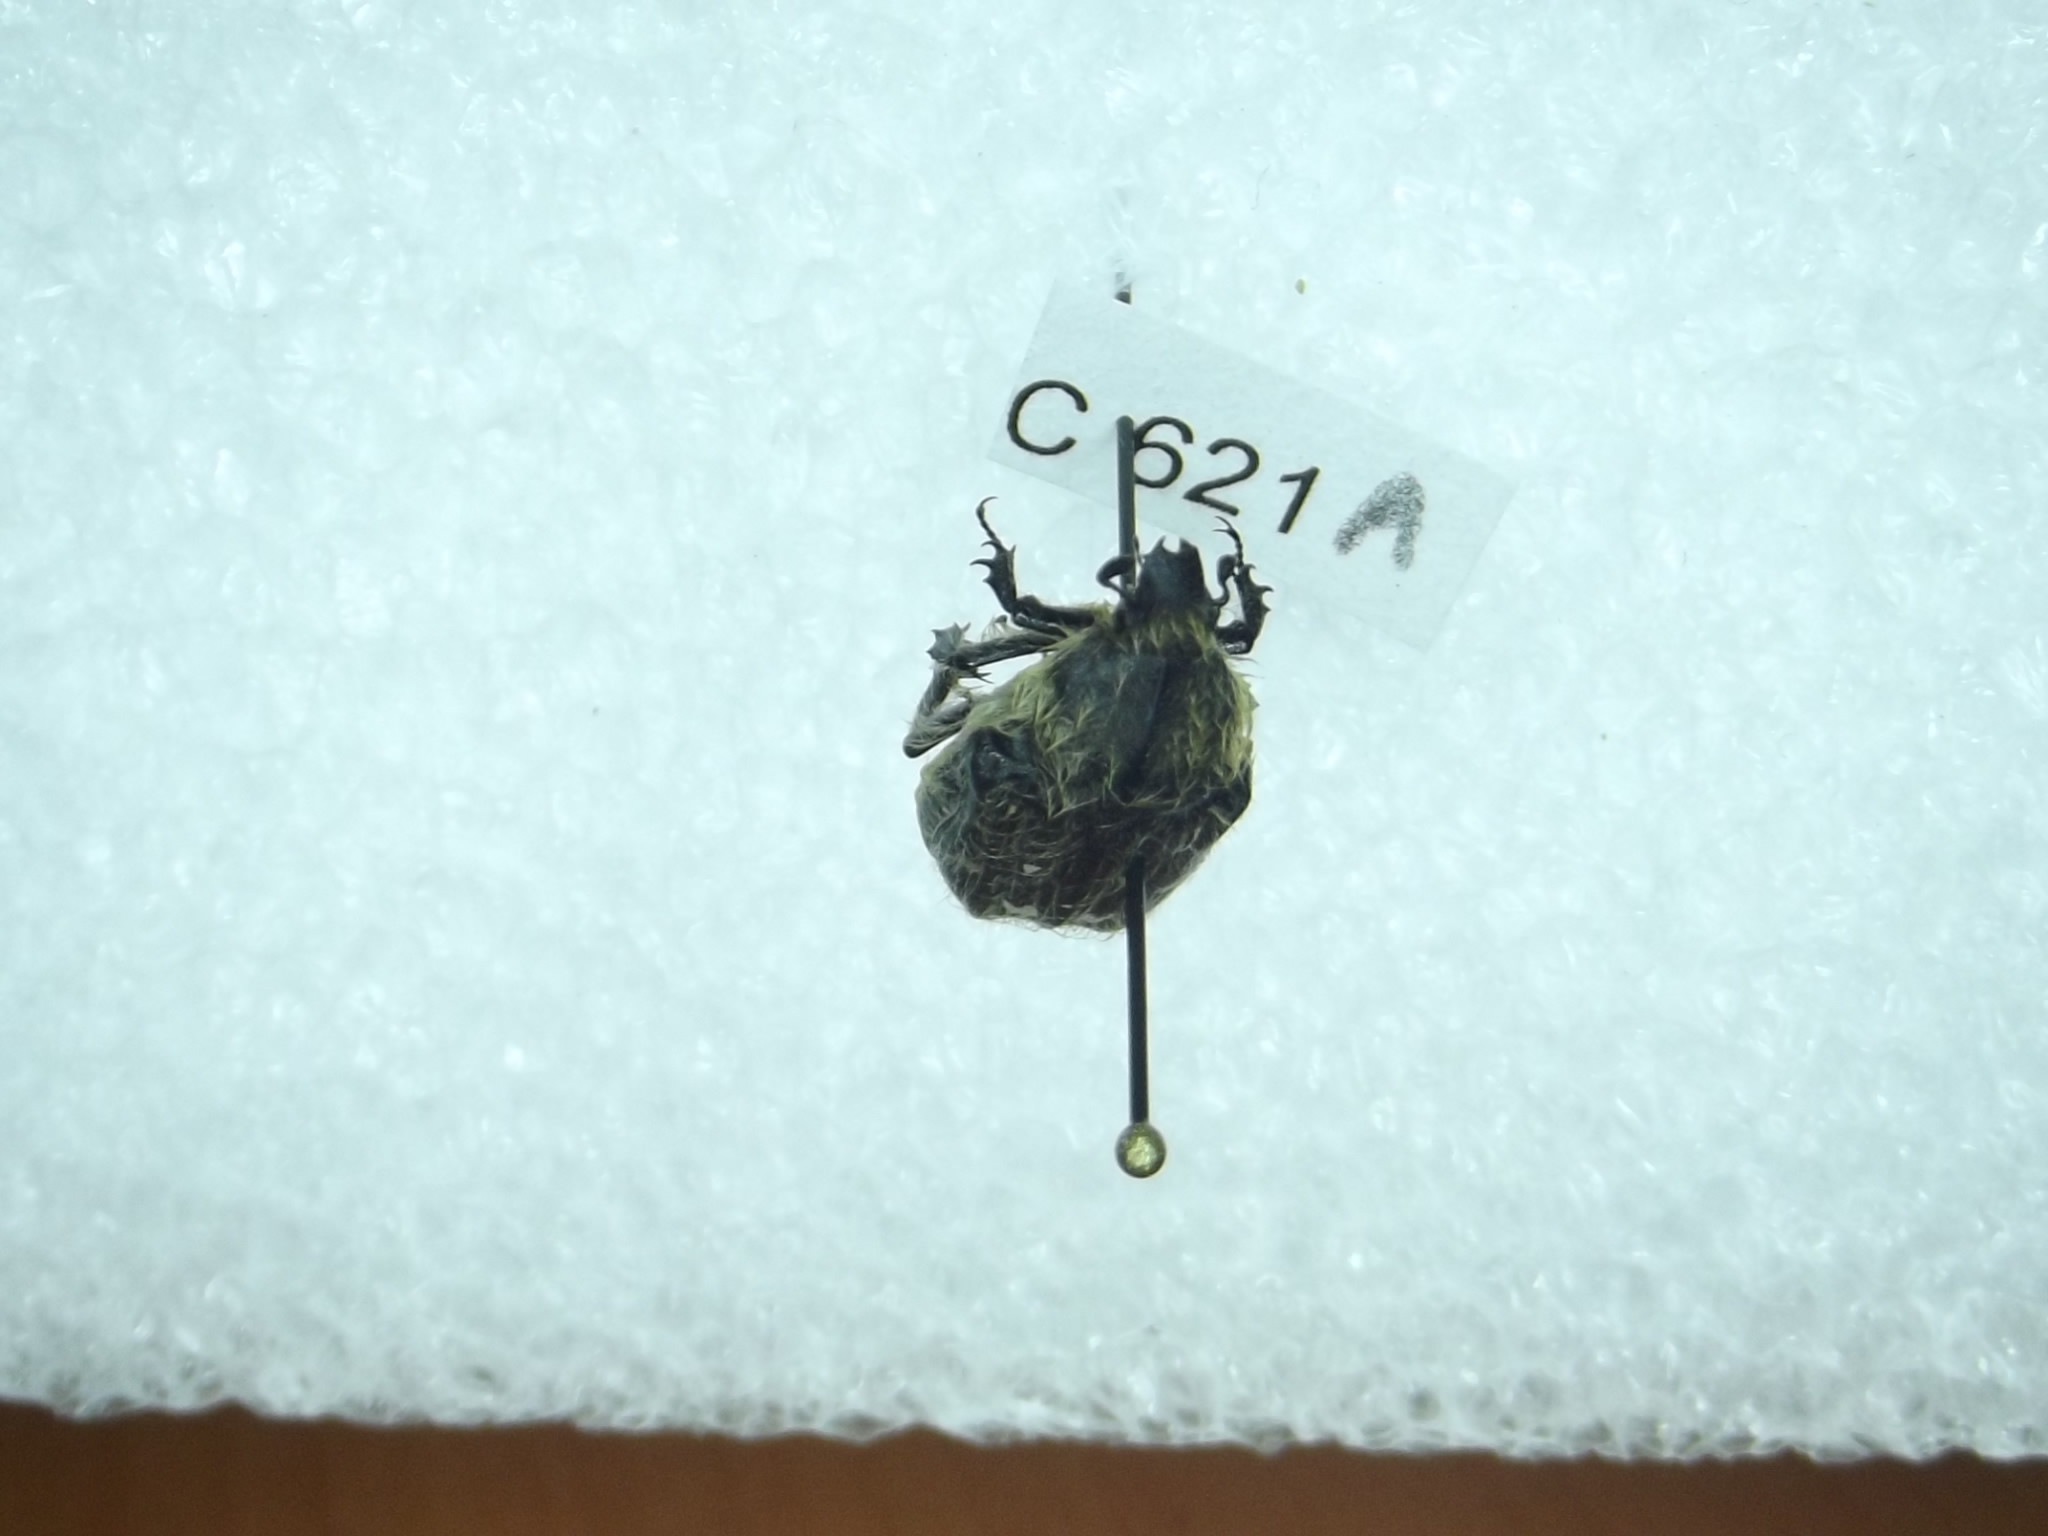Tropinota_senicula: (890, 481, 1313, 950)
